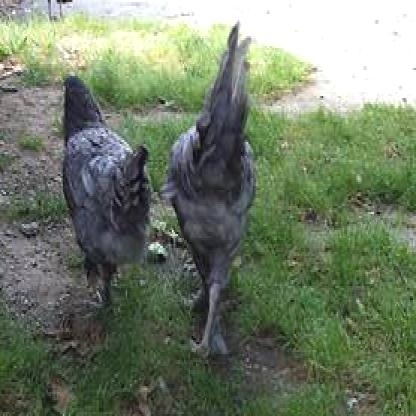chicken: (163, 20, 254, 360), (63, 76, 151, 306)
